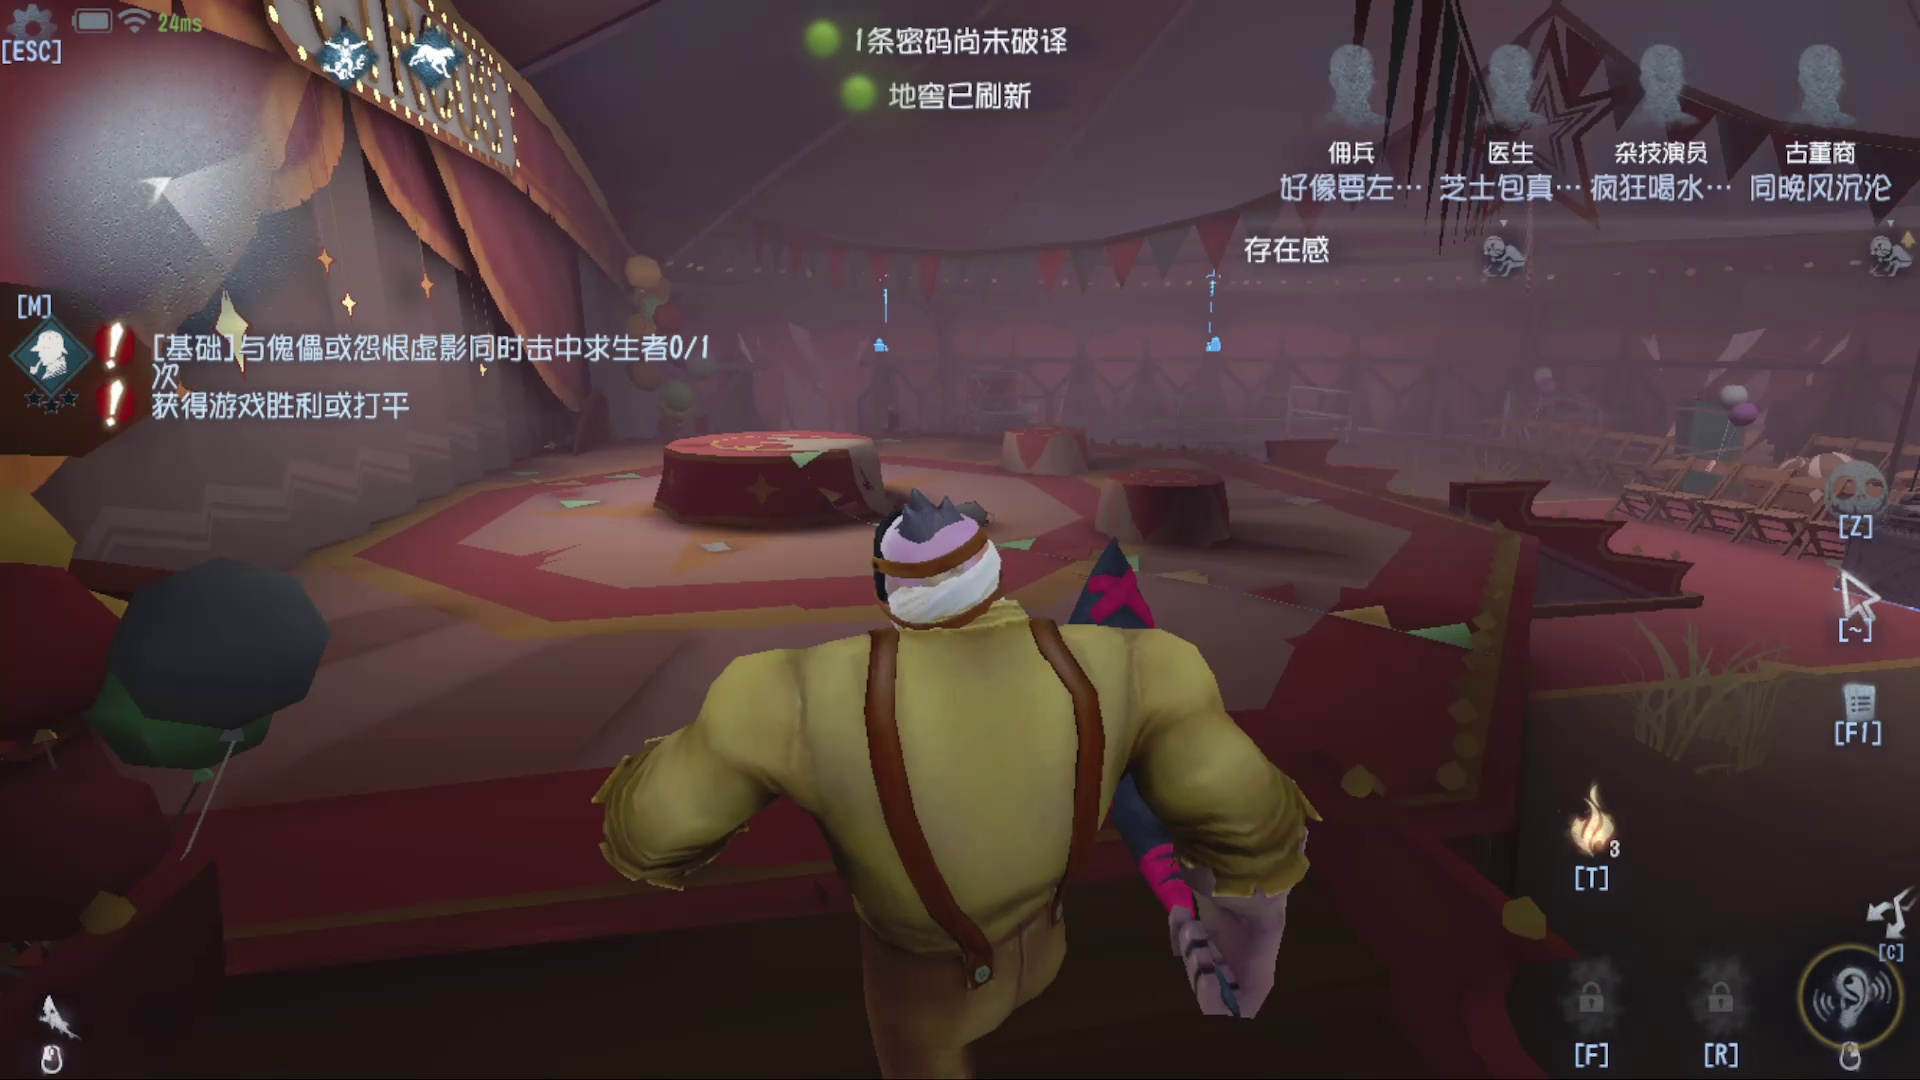密码机: (1187, 245, 1244, 367), (869, 257, 903, 371)
木板: (1659, 372, 1764, 509)
